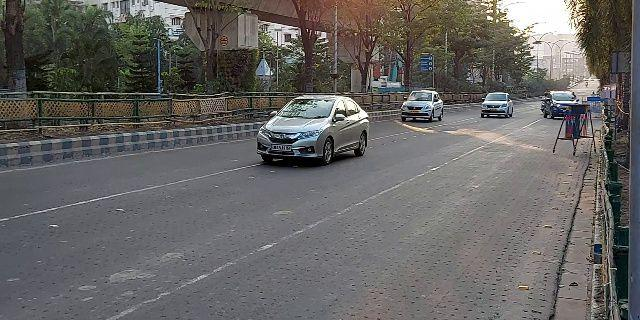Car: (252, 95, 373, 170), (398, 88, 446, 126), (540, 88, 578, 120), (477, 89, 516, 120)
